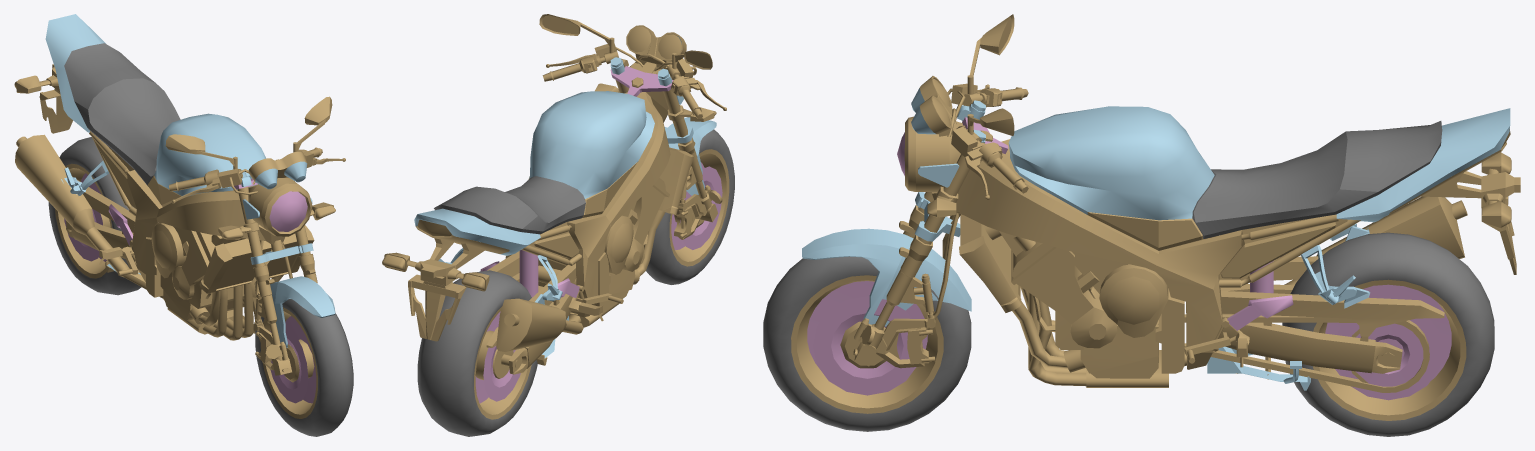
The model's file is bike4.fbx.
3 views of the same model, side by side, from view 1: azimuth 30°, elevation 25°; view 2: azimuth 150°, elevation 25°; view 3: azimuth 270°, elevation 25° (orthographic). The views are drawn at different scales.
Visible parts, largest first — view 1: Bike4, Shape, FrontWheel, BackWheel, Wing, BackAngularAbsorber; view 2: Bike4, BackWheel, Shape, FrontWheel, Wing, BackAngularAbsorber, Spring; view 3: Bike4, BackWheel, FrontWheel, BackAngularAbsorber, Shape, Wing.
Boxes of the visible parts, <box> form: Bike4: <box>14,14,314,340</box>; Shape: <box>165,96,345,297</box>; FrontWheel: <box>255,299,353,436</box>; BackWheel: <box>48,137,141,295</box>; Wing: <box>251,240,335,375</box>; BackAngularAbsorber: <box>66,176,135,261</box>; Bike4: <box>382,91,693,365</box>; BackWheel: <box>417,270,537,436</box>; Shape: <box>539,14,726,165</box>; FrontWheel: <box>646,129,734,284</box>; Wing: <box>668,117,722,239</box>; BackAngularAbsorber: <box>480,251,579,374</box>; Spring: <box>519,250,538,297</box>; Bike4: <box>956,106,1520,390</box>; BackWheel: <box>1282,232,1494,436</box>; FrontWheel: <box>763,256,971,431</box>; BackAngularAbsorber: <box>1184,256,1444,392</box>; Shape: <box>897,14,1028,277</box>; Wing: <box>802,212,971,368</box>.
Size of what is drawn, in the model's own units: 0.7788 by 1.18 by 2.21.
